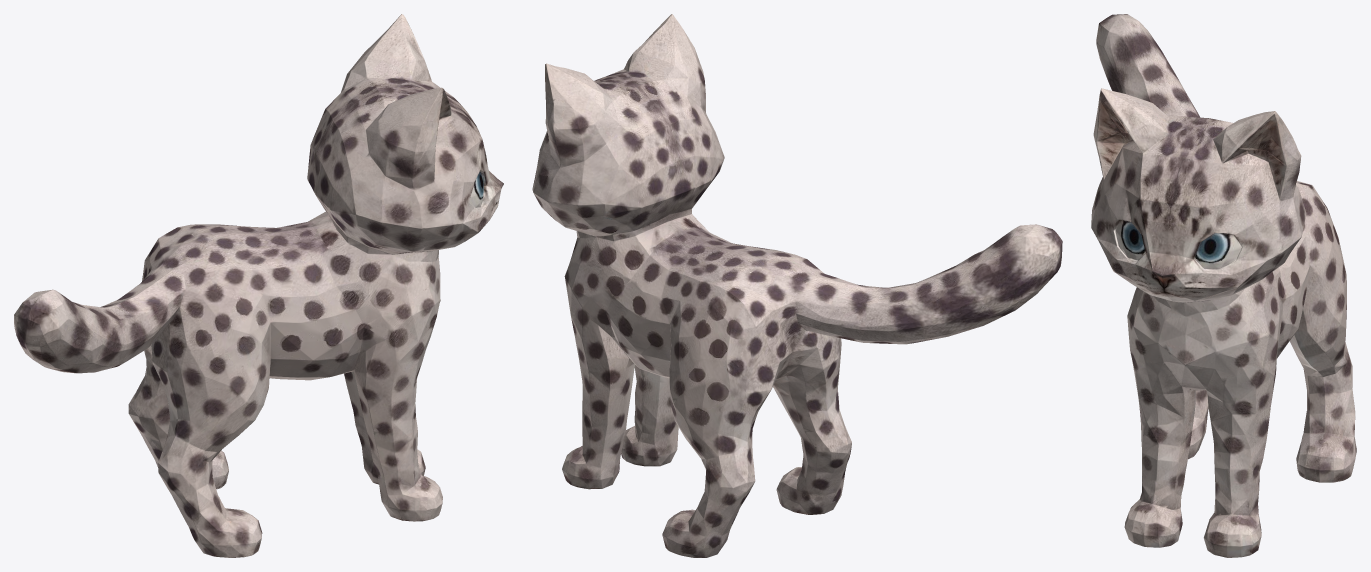
Rendered from PRISMPAW.glb.
3 renders of one model, left to right at view 1: azimuth 30°, elevation 25°; view 2: azimuth 150°, elevation 25°; view 3: azimuth 270°, elevation 25°, orthographic. The views are drawn at different scales.
Visible parts, largest first — view 1: fit; view 2: fit; view 3: fit.
Boxes of the visible parts, left/top/right/bottom form: fit: left=14, top=14, right=503, bottom=557; fit: left=532, top=14, right=1062, bottom=557; fit: left=1091, top=14, right=1356, bottom=557.
Bounding box in the file's own units: 1.2 × 0.9994 × 0.5364.
Materials: 1 (1 with a texture image).
